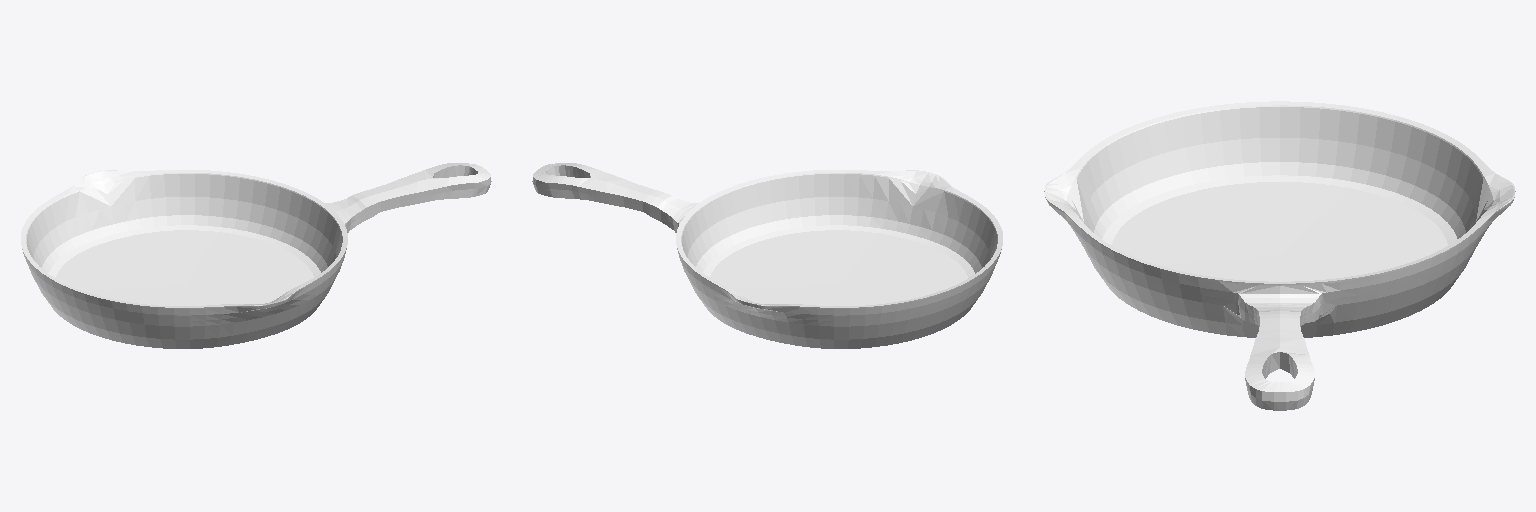
robot.urdf — pan:
<?xml version="1.0" ?>
<robot name="pan">
  <link name="base">
    <inertial>
        <origin rpy="0 0 0" xyz="0 0 0"/>
        <mass value="1.0"/>
        <inertia ixx="1" ixy="0" ixz="0" iyy="1" iyz="0" izz="1"/>
    </inertial>
   <visual>
     <origin rpy="0 0 0" xyz="0 0 0"/>
     <geometry>
       <mesh filename="frying_pan.obj" scale="1 1 1"/>
     </geometry>
      <material name="white">
       <color rgba="1 1 1 1"/>
     </material>
   </visual>
   <collision>
     <origin rpy="0 0 0" xyz="0 0 0"/>
     <geometry>
       <mesh filename="frying_pan_vhacd.obj" scale="1 1 1"/>
     </geometry>
   </collision>
  </link>
  <link name="grasp">
    <inertial>
      <origin rpy="0 0 0" xyz="0 0 0"/>
       <mass value="0.0"/>
       <inertia ixx="1" ixy="0" ixz="0" iyy="1" iyz="0" izz="1"/>
    </inertial>
  </link>
  <joint name="base__grasp" type="fixed">
    <origin xyz="0.15 0.0 0.025" rpy="0.0 0.0 0.0"/>
    <parent link="base"/>
    <child link="grasp"/>
  </joint>
</robot>

--- What the picture shows (computed from the rendered views, not written in the file) ---
Views: 3 orthographic renders of the robot side by side, from view 1: azimuth 30°, elevation 25°; view 2: azimuth 150°, elevation 25°; view 3: azimuth 270°, elevation 25°.
Model pan with 2 links and 1 joints (1 fixed), rooted at base, posed all joints at 0.
Visible links, largest first — view 1: base; view 2: base; view 3: base.
Boxes of the visible links, x1,y1,x2,y2 form: base: (21, 163, 491, 348); base: (532, 163, 1002, 348); base: (1044, 101, 1515, 410).
Size in the robot's own frame: 0.3 by 0.2092 by 0.0364 metres.
1 mesh visuals loaded from 1 distinct referenced files (1 OBJ).